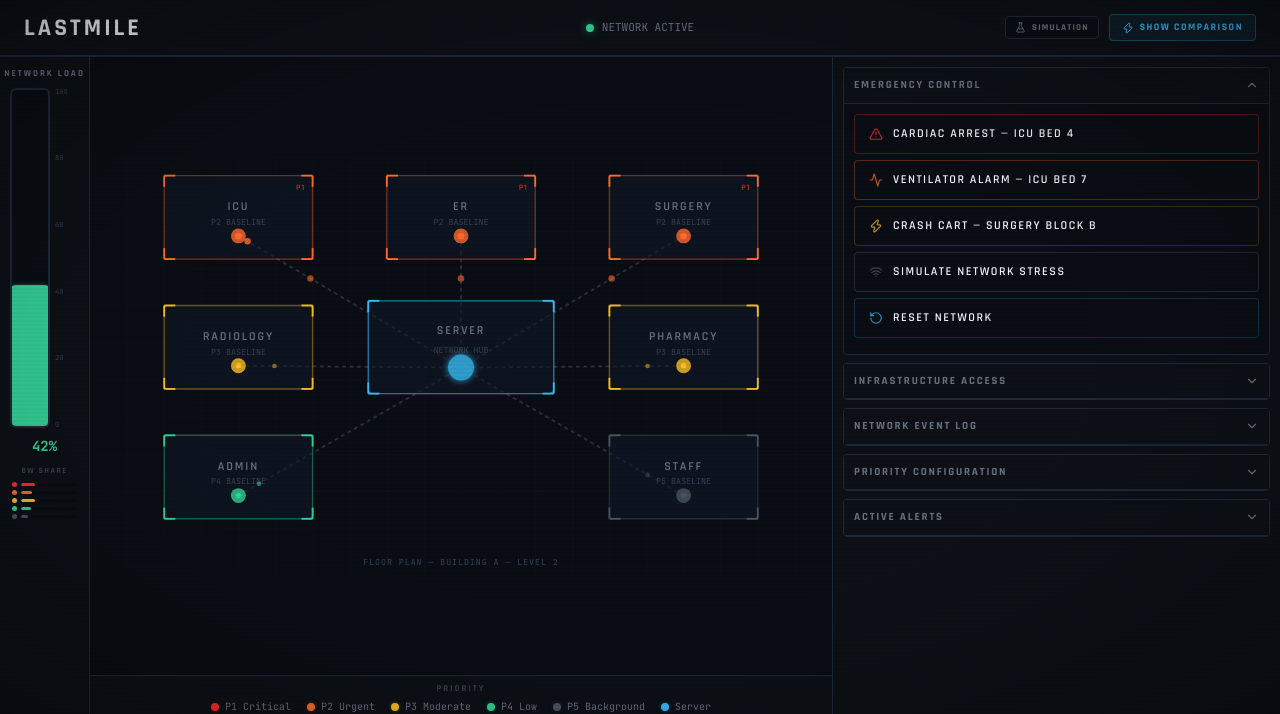
Test: App › exposes sidebar panels as labelled accordions
Click the button "Infrastructure Access" at (930, 380), box x1=844 y1=364 x2=1269 y2=399
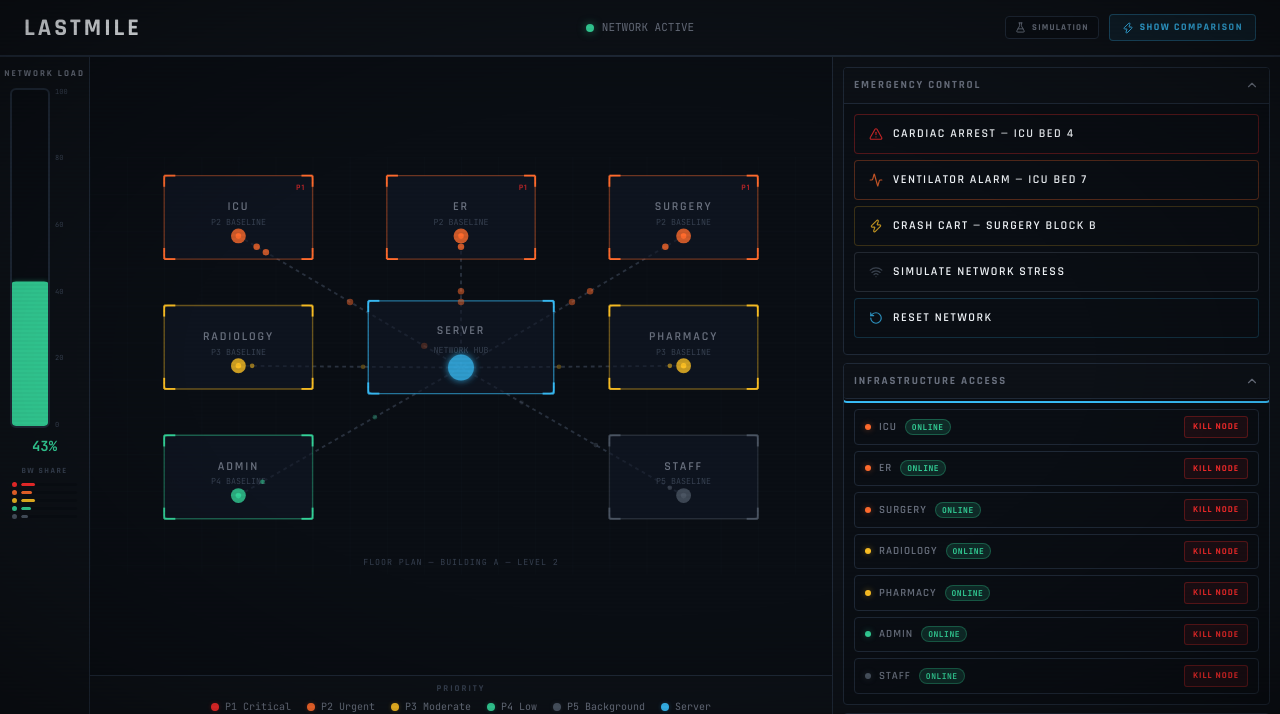
Now the button with aria-label "take offline" is shown, box x1=1184 y1=416 x2=1248 y2=438
